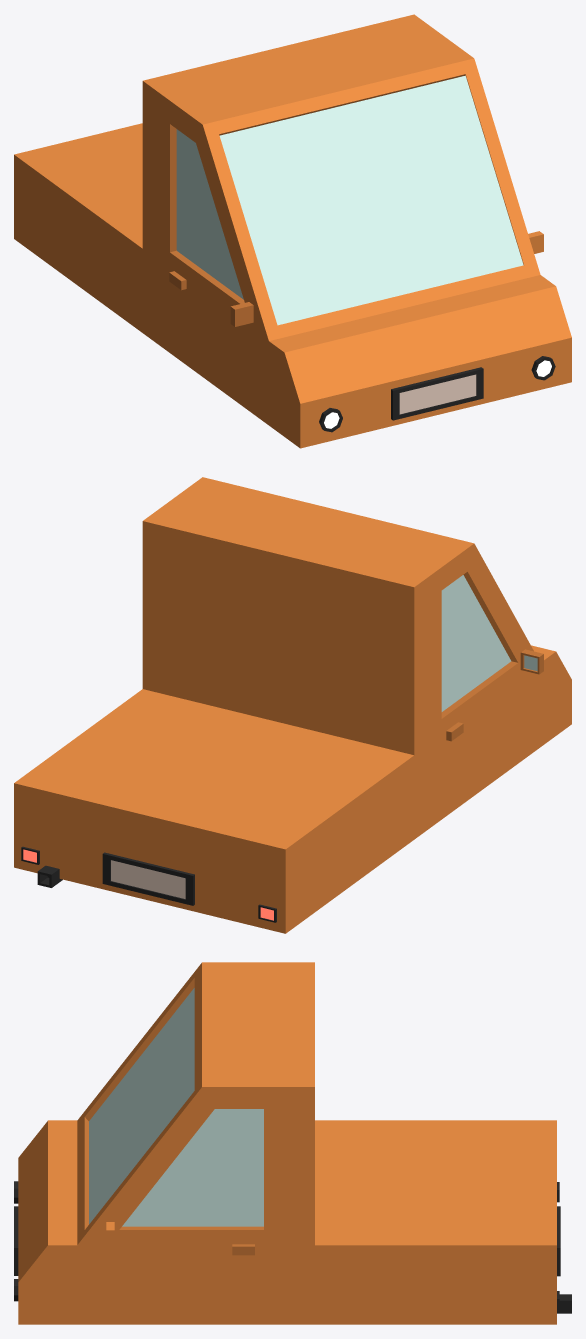
The model's file is small_bus-broken.fbx.
The picture shows the model from 3 angles, top to bottom: view 1: azimuth 30°, elevation 25°; view 2: azimuth 150°, elevation 25°; view 3: azimuth 270°, elevation 25°; orthographic projection. The views are drawn at different scales.
Visible parts, largest first — view 1: polySurface7; view 2: polySurface7; view 3: polySurface7.
Boxes of the visible parts, <box> form: polySurface7: <box>14,14,571,448</box>; polySurface7: <box>14,477,571,933</box>; polySurface7: <box>14,962,560,1324</box>.
Size of the model in its own units: 209 by 165 by 347.
